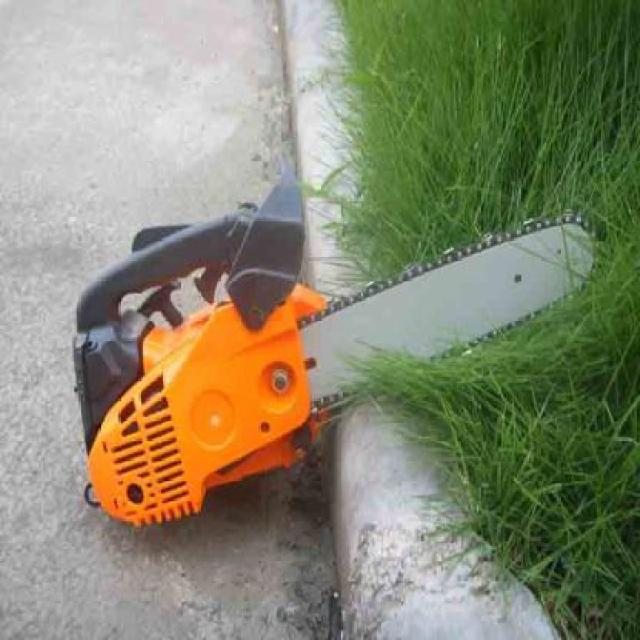Chainsaw: (68, 178, 580, 532)
